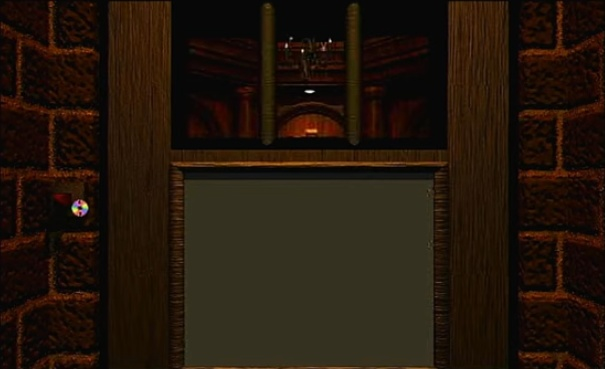Waiting: (68, 197, 91, 218)
